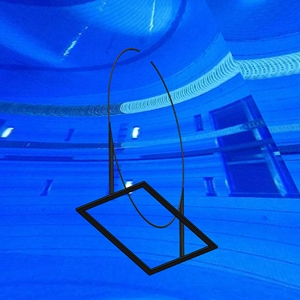circle: (75, 46, 220, 276)
